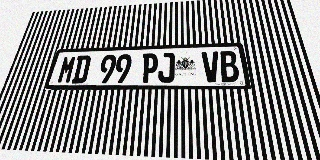9: (98, 54, 117, 83), (113, 54, 132, 83)
B: (219, 51, 240, 82)
D: (71, 55, 92, 83)
J: (158, 53, 175, 83)
M: (56, 56, 77, 84)
P: (141, 53, 158, 83)
V: (201, 51, 221, 82)
